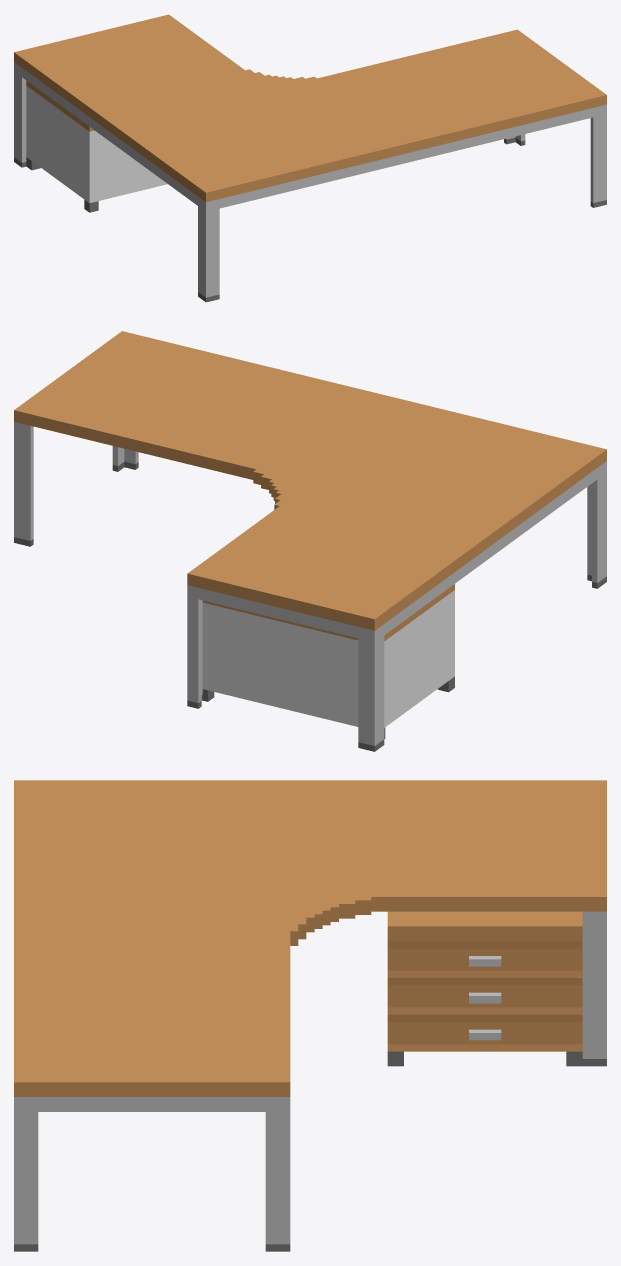
File: Desk4-1.fbx
3 views of the same model, one above another, from view 1: azimuth 30°, elevation 25°; view 2: azimuth 150°, elevation 25°; view 3: azimuth 270°, elevation 25° (orthographic). The views are drawn at different scales.
Visible parts, largest first — view 1: Desk4-1; view 2: Desk4-1; view 3: Desk4-1.
Boxes of the visible parts, x1=… form: Desk4-1: x1=14, y1=14, x2=606, y2=302; Desk4-1: x1=14, y1=331, x2=606, y2=751; Desk4-1: x1=14, y1=780, x2=606, y2=1251.
Bounding box in the file's own units: 8.8 × 2.3 × 7.3.
